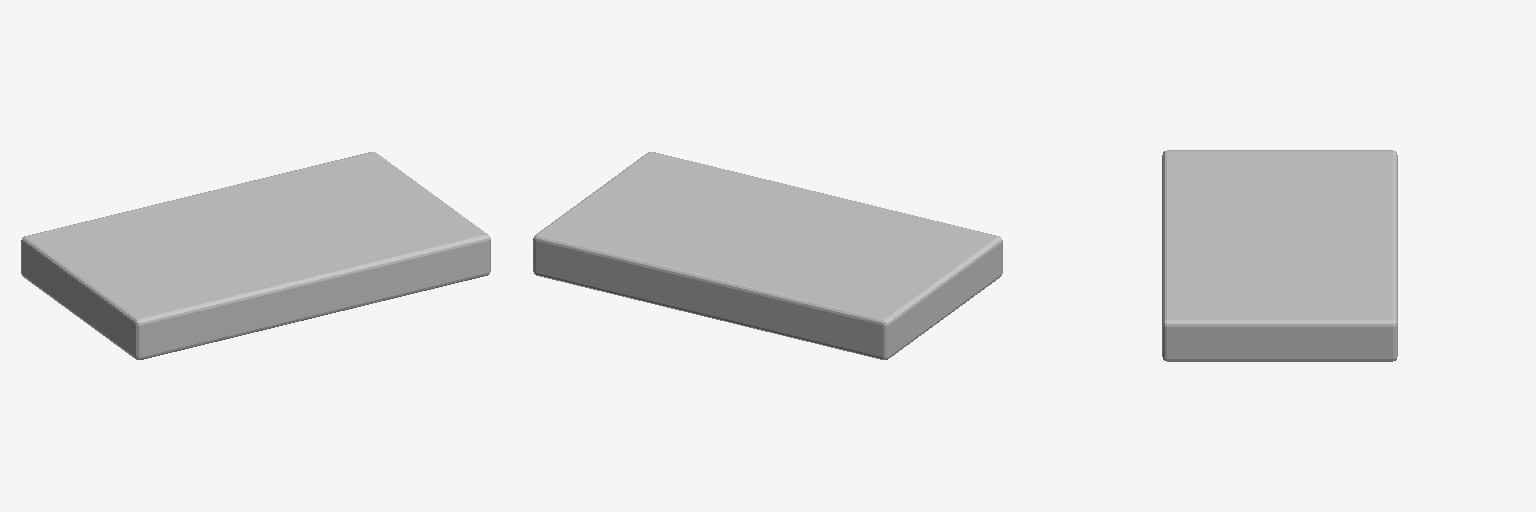
File: colchon.obj
3 renders of one model, left to right at view 1: azimuth 30°, elevation 25°; view 2: azimuth 150°, elevation 25°; view 3: azimuth 270°, elevation 25°, orthographic.
Visible parts, largest first — view 1: Colchón.001; view 2: Colchón.001; view 3: Colchón.001.
Boxes of the visible parts, <box> form: Colchón.001: <box>21,152,490,359</box>; Colchón.001: <box>533,152,1002,359</box>; Colchón.001: <box>1162,150,1397,361</box>.
Size of the model in its own units: 1.89 by 0.2083 by 1.08.